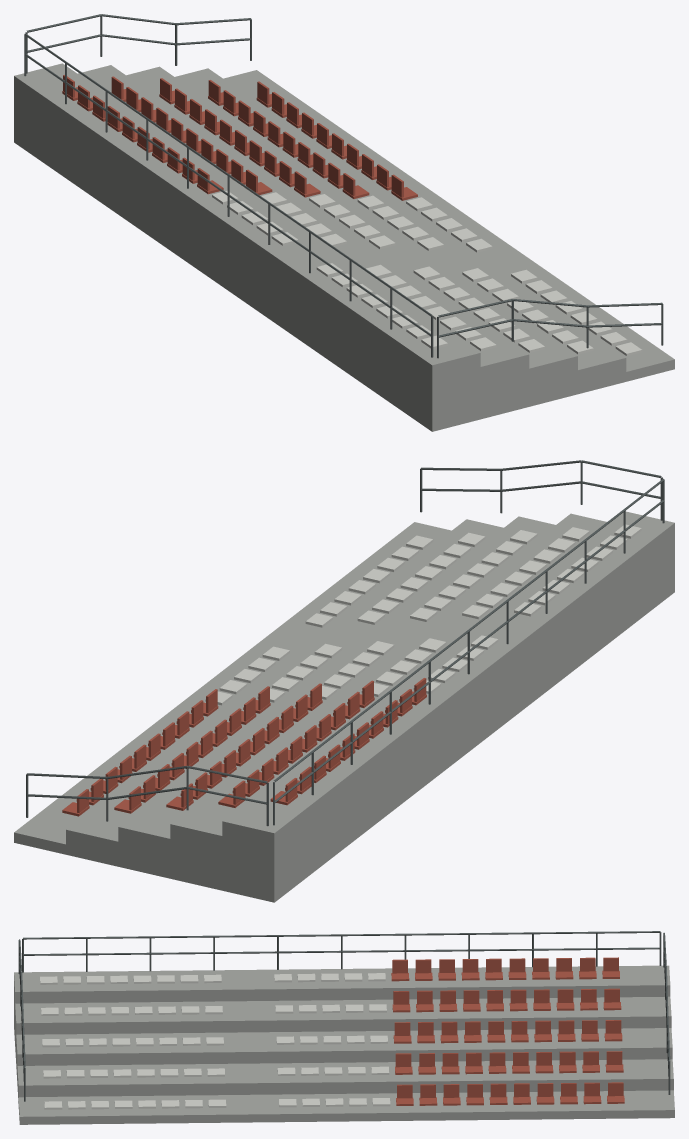
The model's file is osm_way_224940881.glb.
3 renders of one model, top to bottom at view 1: azimuth 30°, elevation 25°; view 2: azimuth 150°, elevation 25°; view 3: azimuth 270°, elevation 25°, orthographic. The views are drawn at different scales.
Visible parts, largest first — view 1: Stadium • tiered seating, EXTERIOR::osm_way_224940881::structure and seating detail; view 2: Stadium • tiered seating, EXTERIOR::osm_way_224940881::structure and seating detail; view 3: Stadium • tiered seating, EXTERIOR::osm_way_224940881::structure and seating detail.
Part boxes in pixels (left/top/right/bottom): Stadium • tiered seating: left=14, top=63, right=674, bottom=431; EXTERIOR::osm_way_224940881::structure and seating detail: left=24, top=14, right=663, bottom=358; Stadium • tiered seating: left=14, top=511, right=674, bottom=902; EXTERIOR::osm_way_224940881::structure and seating detail: left=26, top=460, right=664, bottom=826; Stadium • tiered seating: left=14, top=965, right=674, bottom=1124; EXTERIOR::osm_way_224940881::structure and seating detail: left=18, top=931, right=670, bottom=1101.
Size of the model in its own units: 6.99 by 2.83 by 18.61.
